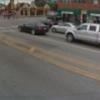cars: (66, 22, 100, 46), (17, 20, 50, 36), (52, 22, 78, 34)
